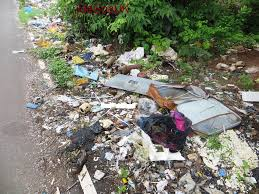garbage: (90, 93, 255, 194), (65, 44, 178, 116)
